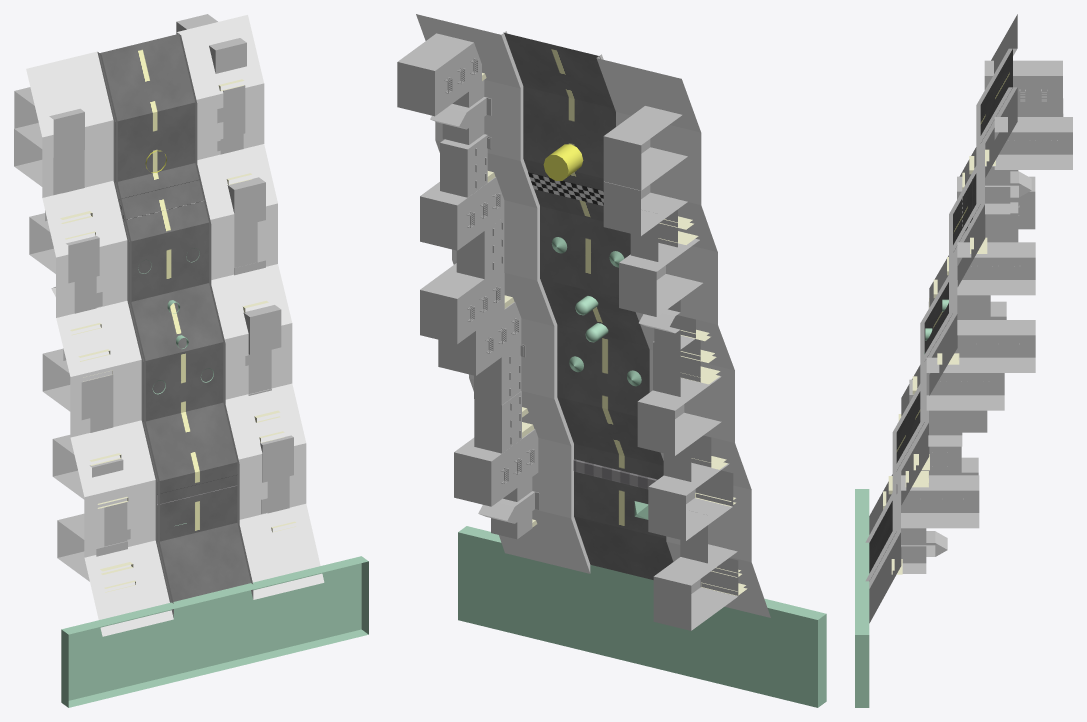
The model's file is Scenes_02.FBX.
3 renders of one model, left to right at view 1: azimuth 30°, elevation 25°; view 2: azimuth 150°, elevation 25°; view 3: azimuth 270°, elevation 25°, orthographic. The views are drawn at different scales.
Visible parts, largest first — view 1: Box002, wjzt, house012, house016, house014, house015, house007, house008, house02, house019, house022, house03 (+6 smaller); view 2: Box002, wjzt, house022, house007, house017, house016, house03, house008, house019, house012, house014, house02 (+14 smaller); view 3: Box002, house022, house03, house02, house019, house017, wjzt, house016, house01, house021, house04, house020 (+4 smaller).
Boxes of the visible parts, <box> form: Box002: <box>26,15,324,636</box>; wjzt: <box>61,556,368,707</box>; house012: <box>42,348,113,419</box>; house016: <box>14,87,84,157</box>; house014: <box>29,213,99,283</box>; house015: <box>14,129,84,195</box>; house007: <box>57,513,127,581</box>; house008: <box>52,435,123,499</box>; house02: <box>243,305,281,354</box>; house019: <box>227,177,265,227</box>; house022: <box>176,14,246,73</box>; house03: <box>260,435,293,482</box>; Box002: <box>416,14,770,617</box>; wjzt: <box>458,526,826,707</box>; house022: <box>397,33,481,116</box>; house007: <box>653,549,738,630</box>; house017: <box>420,263,504,344</box>; house016: <box>603,106,687,190</box>; house03: <box>454,429,538,506</box>; house008: <box>648,463,733,540</box>; house019: <box>420,177,504,250</box>; house012: <box>637,376,721,455</box>; house014: <box>619,238,702,316</box>; house02: <box>438,302,521,375</box>; Box002: <box>865,14,1017,623</box>; house022: <box>994,117,1072,169</box>; house03: <box>901,475,979,528</box>; house02: <box>926,357,1004,410</box>; house019: <box>957,242,1035,295</box>; house017: <box>957,320,1035,372</box>; wjzt: <box>855,489,869,707</box>; house016: <box>984,60,1062,113</box>; house01: <box>901,515,947,573</box>; house021: <box>985,156,1031,214</box>; house04: <box>929,395,962,446</box>; house020: <box>985,202,1018,253</box>.
Size of the model in its own units: 3726 by 6757 by 2352.
